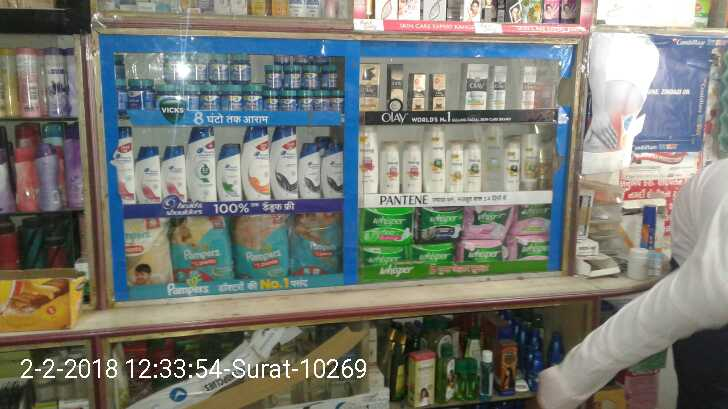beauty: (185, 128, 218, 202), (270, 126, 298, 204), (241, 129, 270, 202), (113, 125, 137, 210), (297, 140, 324, 202), (160, 144, 187, 204), (135, 142, 159, 206), (322, 138, 346, 198), (216, 143, 241, 199), (382, 67, 406, 116), (464, 67, 489, 108), (359, 64, 378, 111)
pharmacy: (115, 49, 348, 118), (170, 216, 237, 288), (233, 215, 292, 281), (290, 212, 340, 275), (465, 201, 515, 243), (363, 210, 416, 246), (419, 206, 460, 242)
